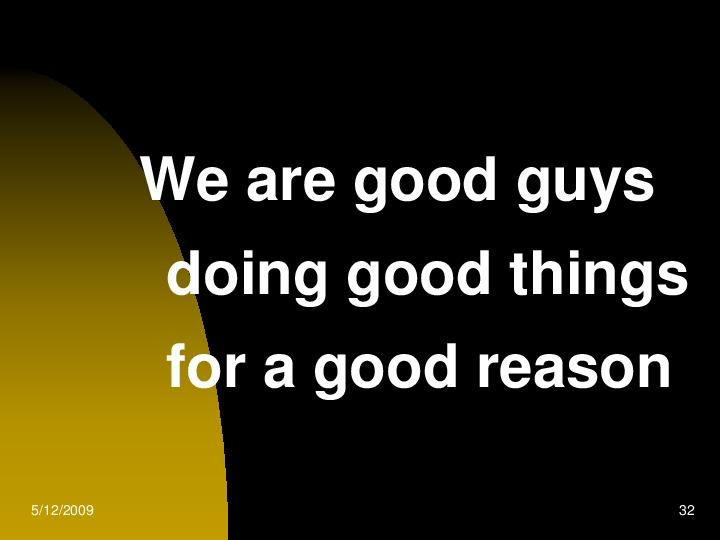title: (130, 134, 702, 416)
